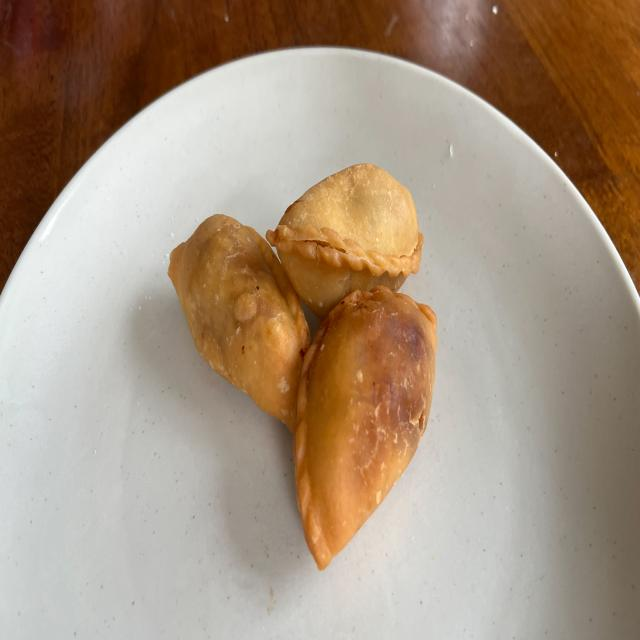karipap: (169, 216, 310, 431), (266, 164, 424, 320)
